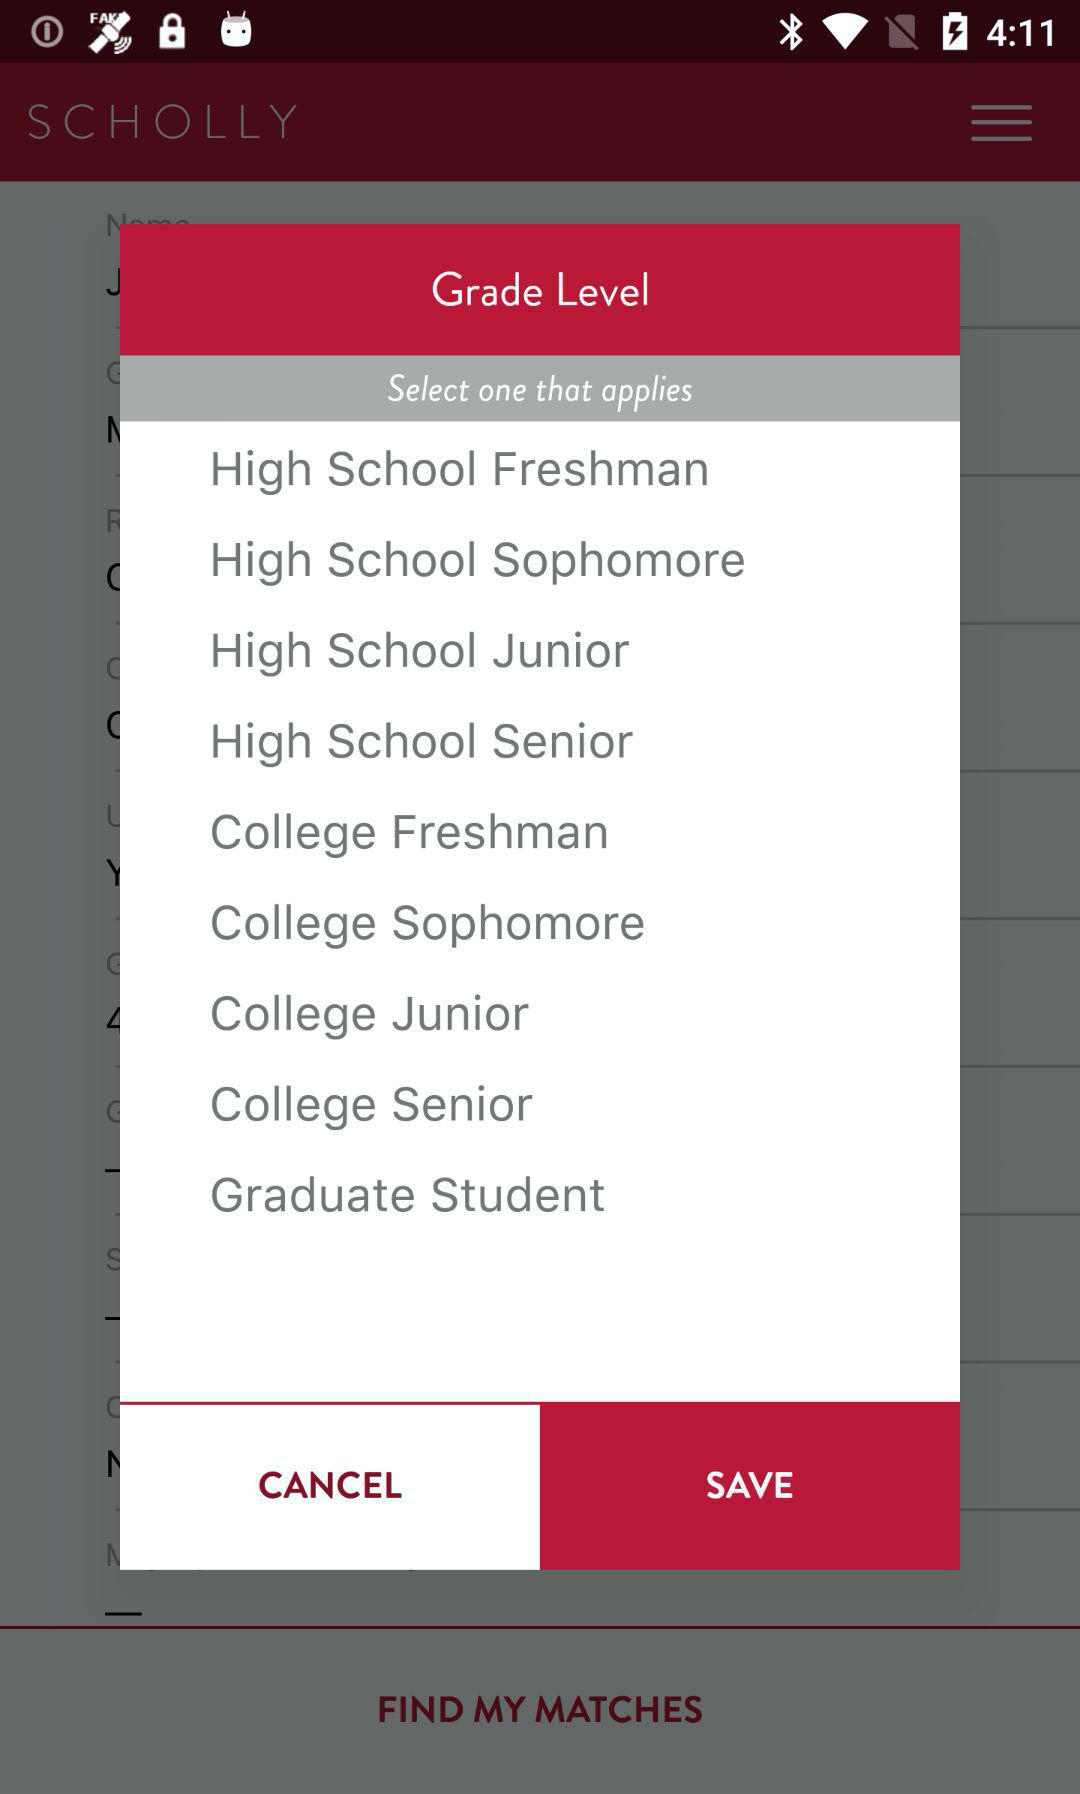Icon: (969, 103, 1034, 145)
Modal: (120, 224, 961, 1571)
Text: (211, 538, 747, 588), (213, 450, 708, 497), (211, 902, 644, 951), (213, 630, 632, 679), (211, 811, 609, 862), (211, 720, 634, 768), (211, 1082, 536, 1134), (211, 1175, 607, 1215), (211, 992, 530, 1041), (387, 373, 692, 414), (27, 104, 299, 142), (378, 1694, 702, 1724), (432, 270, 650, 308)
TextButton: (541, 1402, 961, 1571), (120, 1402, 541, 1571)
UpperTaskBar: (1, 1, 1080, 64)
